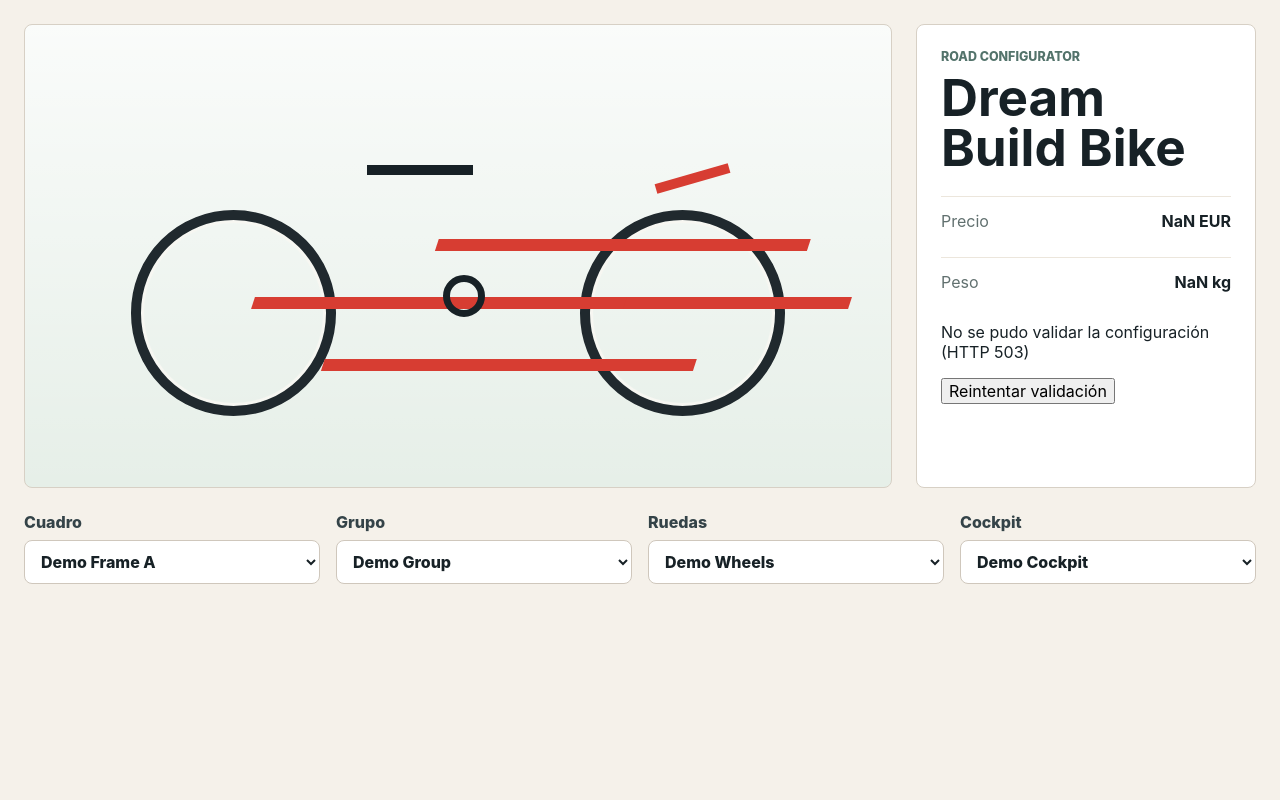
Test: App request behavior › shows validation errors and lets the user retry
The image size is (1280, 800).
Click the button "Reintentar validación" at (1028, 391), box [941, 378, 1115, 404]
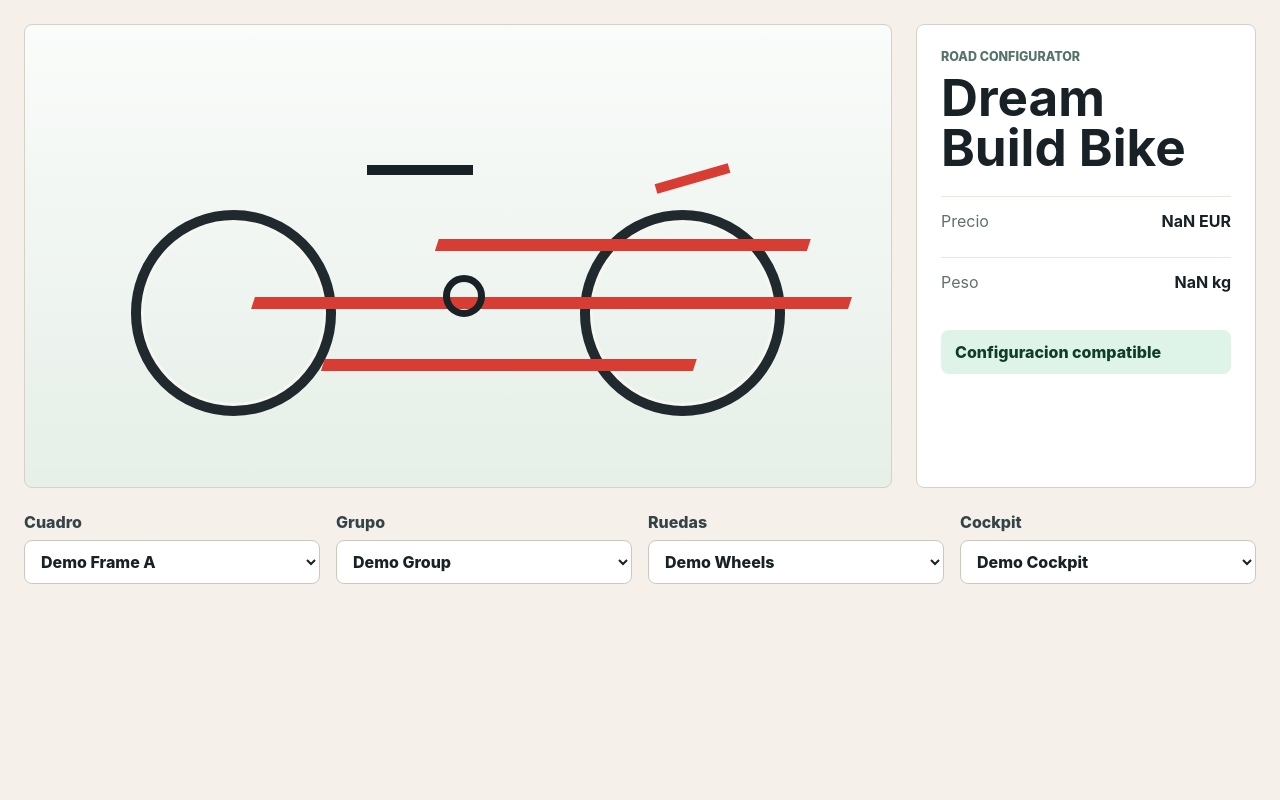
Expected: the text "Configuracion compatible" is shown, [941, 330, 1231, 374]
Expected: the text "No se pudo validar" is gone
